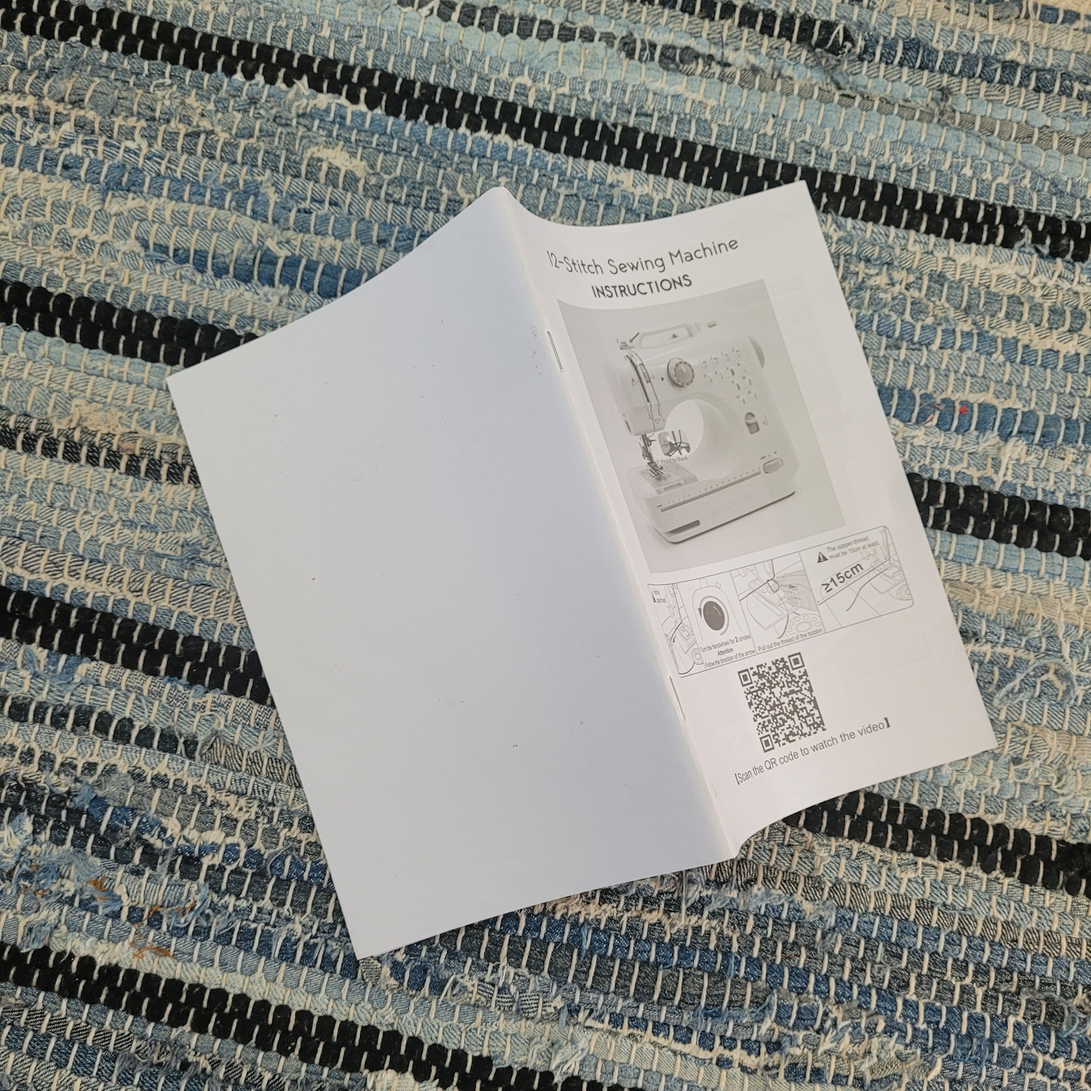paper: (162, 177, 1006, 968)
